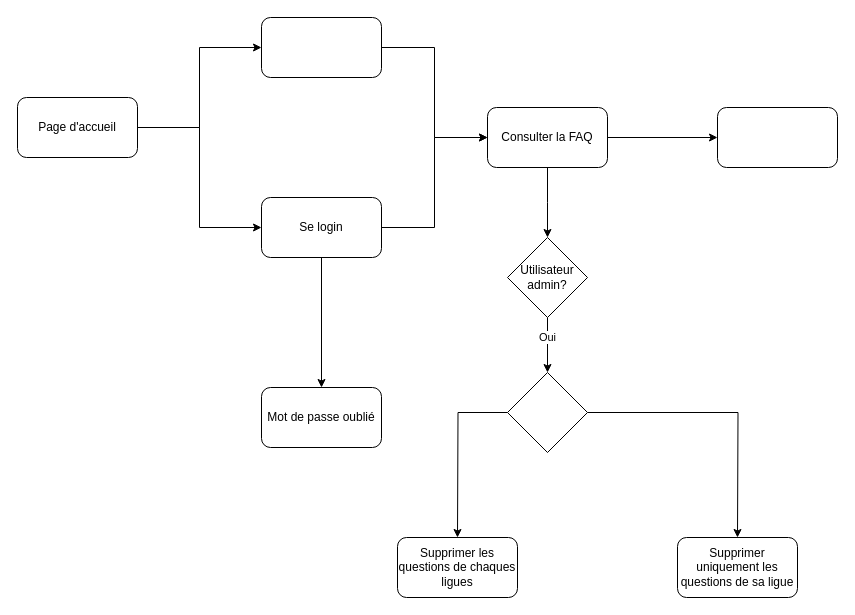
Image size: 855x615. Some labels were removed from this diagram. Here are the shapes that lost their labels. From the top down, the centre of each, then its label:
(x=321, y=47): S'inscrire
(x=777, y=137): Poser une question
(x=547, y=412): Utilisateur superadmin?
